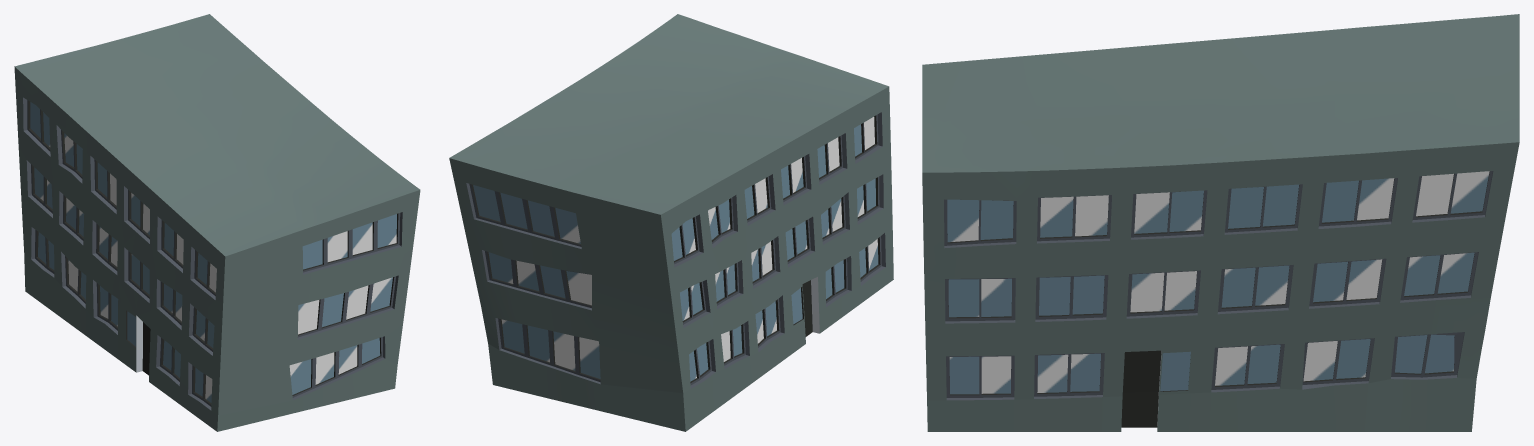
The model's file is BigGuardPost.fbx.
The picture shows the model from 3 angles, left to right: view 1: azimuth 30°, elevation 25°; view 2: azimuth 150°, elevation 25°; view 3: azimuth 270°, elevation 25°; orthographic projection. The views are drawn at different scales.
Parts seen in each view (by area): view 1: BigGuardPost; view 2: BigGuardPost; view 3: BigGuardPost.
Part boxes in pixels (x1,y1,x2,y2): BigGuardPost: (14,14,420,431); BigGuardPost: (449,14,893,431); BigGuardPost: (922,14,1519,431).
Size of the model in its own units: 11.4 by 11.69 by 20.68.
